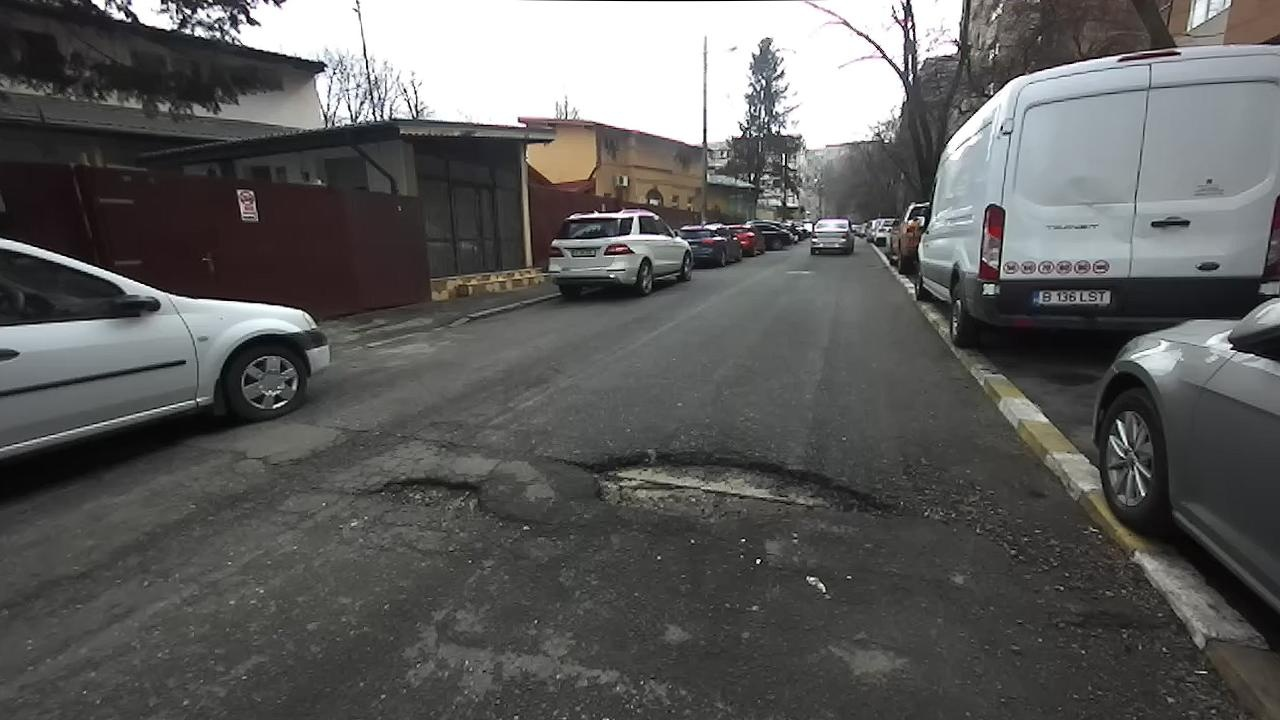pothole: (549, 441, 924, 529), (353, 469, 539, 526)
